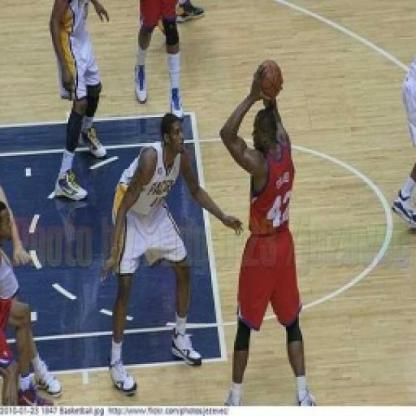basketball: (254, 54, 286, 101)
